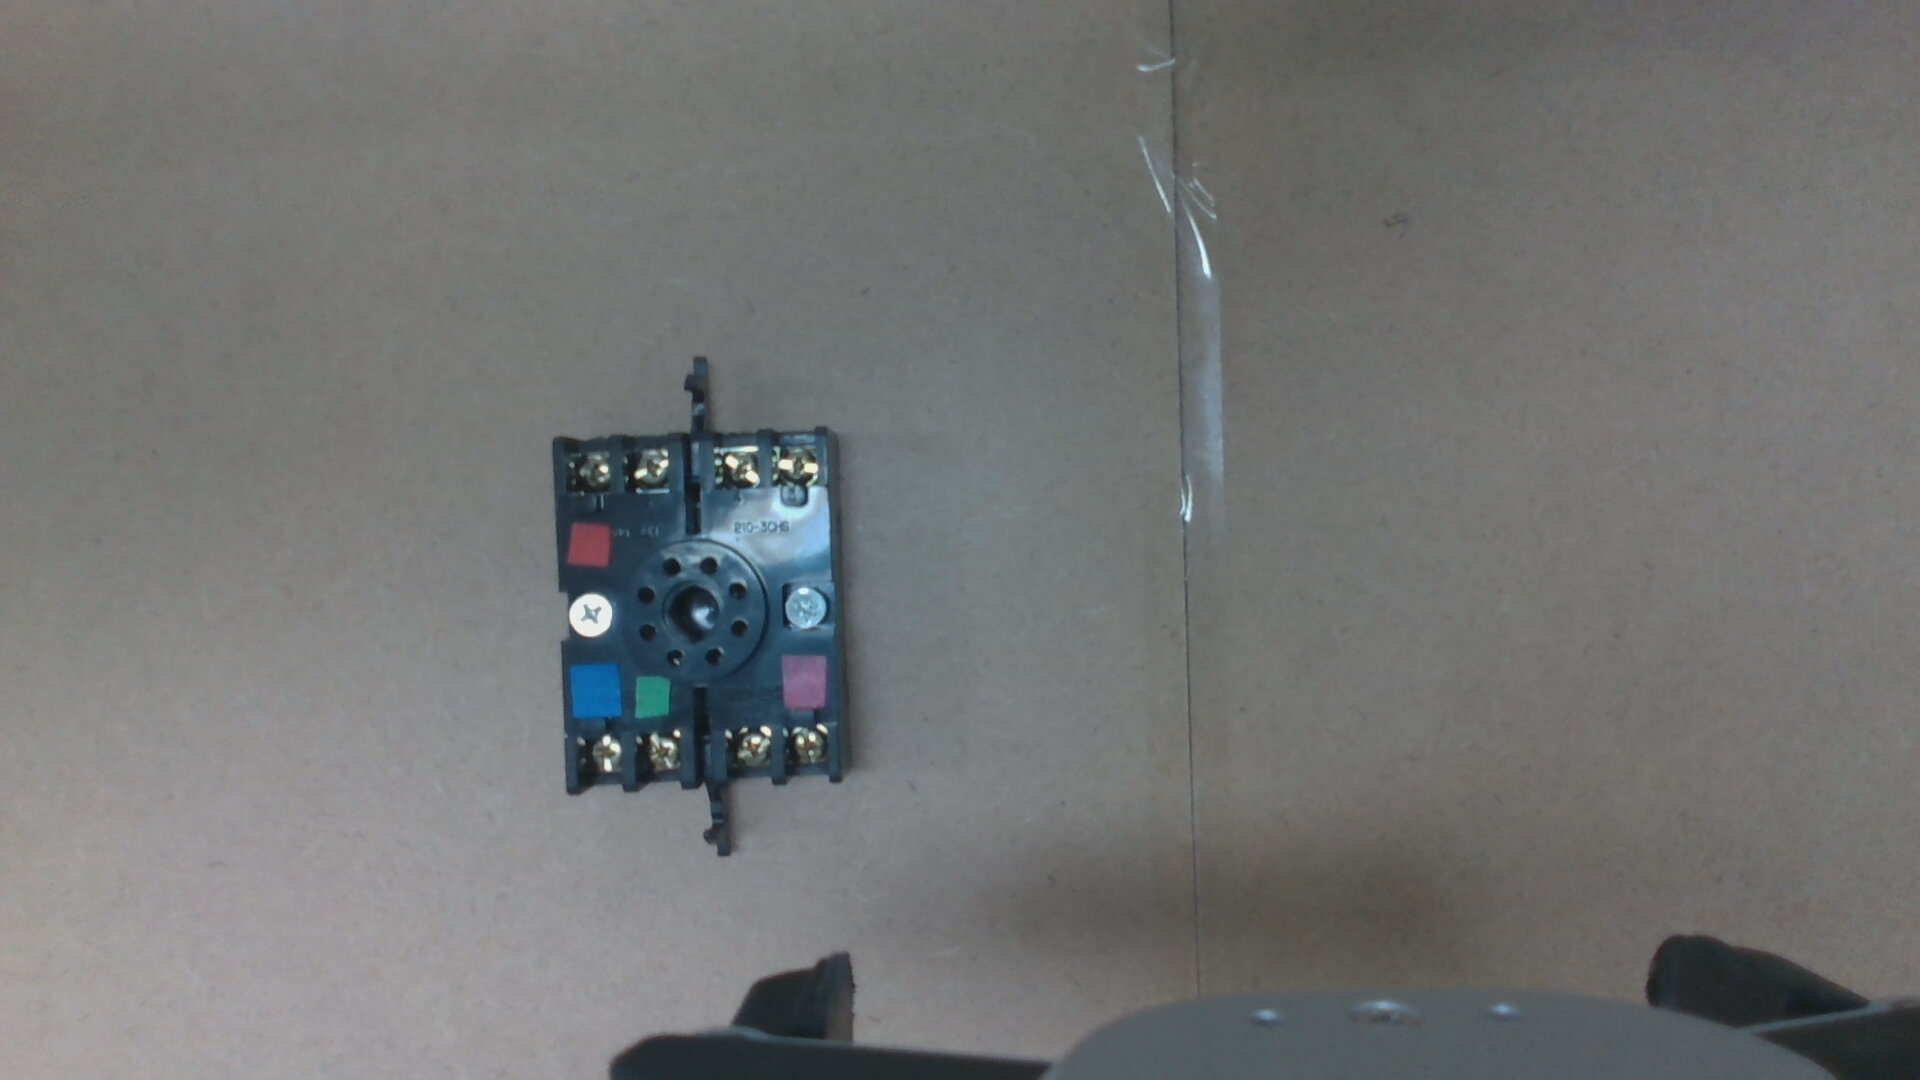timer 2: (789, 725, 827, 765)
timer 6: (572, 455, 611, 489)
timer 7: (582, 732, 621, 771)
timer 8: (640, 735, 680, 773)
